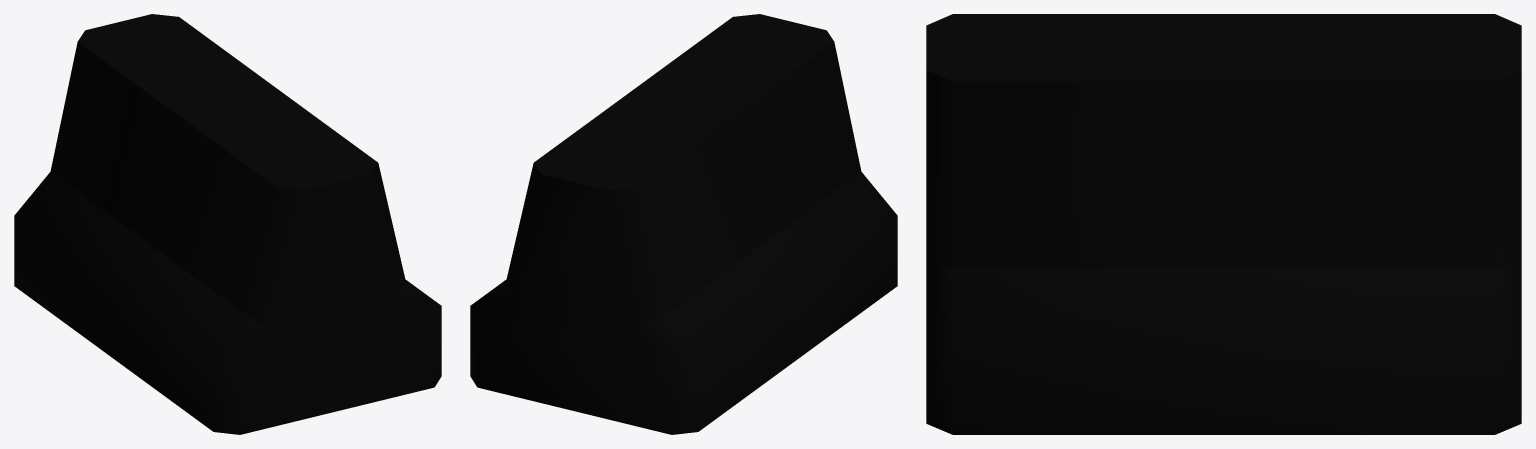
The model's file is construction-barrier.glb.
3 views of the same model, side by side, from view 1: azimuth 30°, elevation 25°; view 2: azimuth 150°, elevation 25°; view 3: azimuth 270°, elevation 25° (orthographic). The views are drawn at different scales.
Parts seen in each view (by area): view 1: construction-barrier; view 2: construction-barrier; view 3: construction-barrier.
Boxes of the visible parts, <box> form: construction-barrier: <box>14,14,441,434</box>; construction-barrier: <box>470,14,897,434</box>; construction-barrier: <box>926,14,1521,434</box>.
Bounding box in the file's own units: 0.1355 × 0.13 × 0.225.
Materials: 1 (1 with a texture image).
